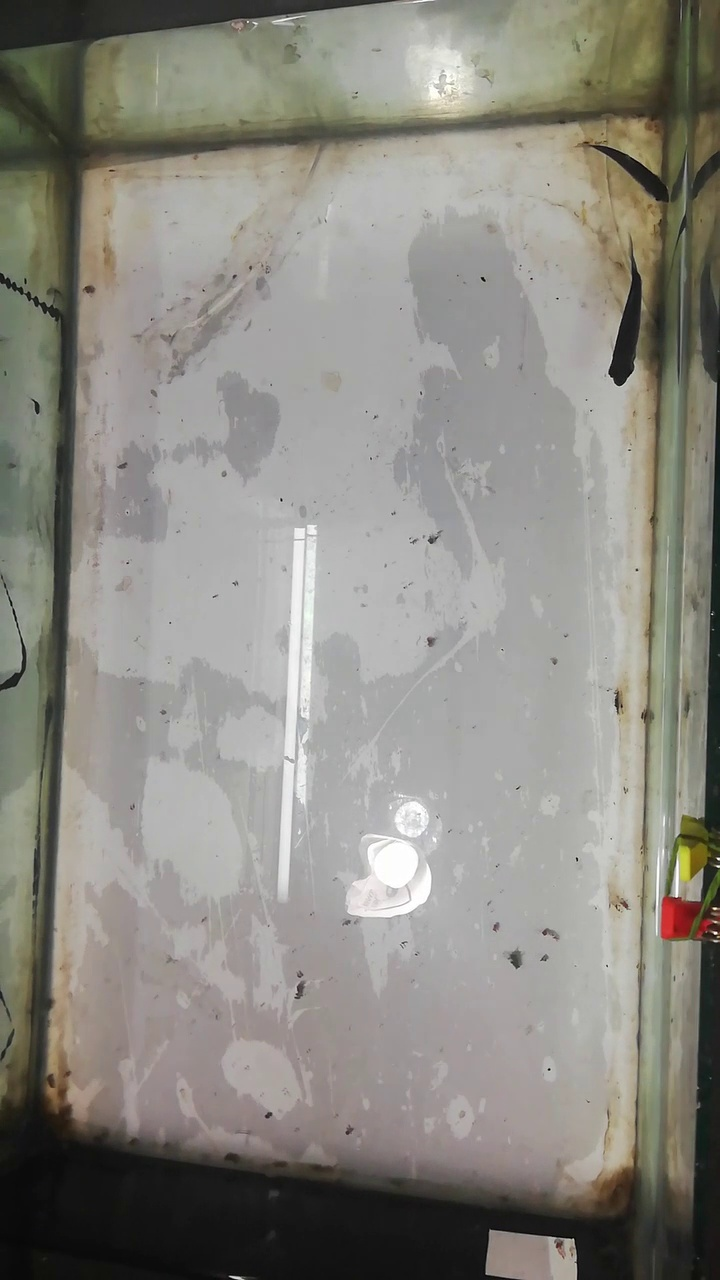fish1: (609, 240, 644, 391)
fish2: (584, 138, 670, 206)
